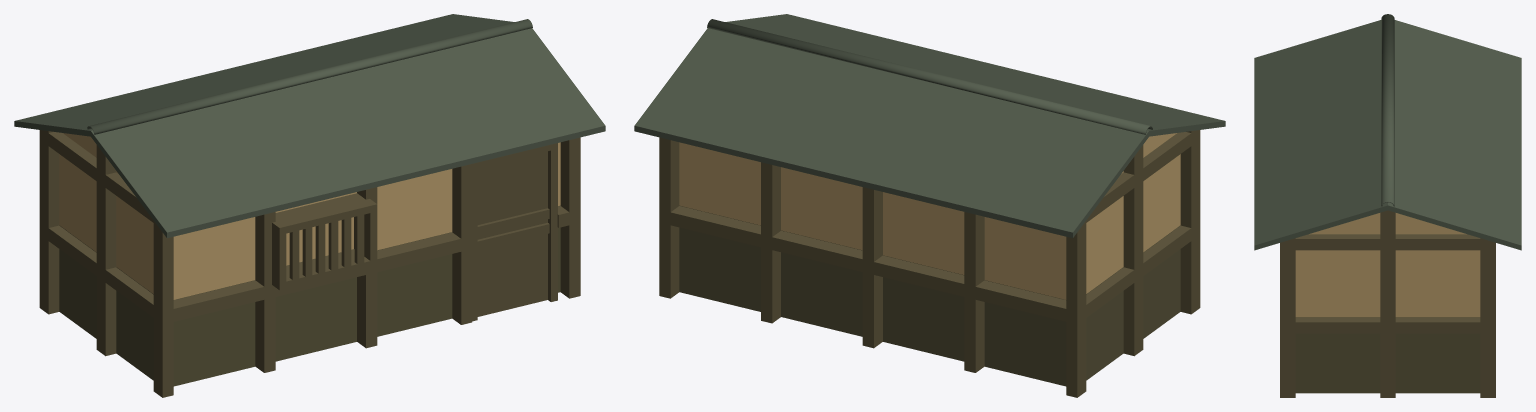
The model's file is Building2_v01.glb.
3 renders of one model, left to right at view 1: azimuth 30°, elevation 25°; view 2: azimuth 150°, elevation 25°; view 3: azimuth 270°, elevation 25°, orthographic. The views are drawn at different scales.
Parts seen in each view (by area): view 1: SM_Building2; view 2: SM_Building2; view 3: SM_Building2.
Part boxes in pixels (bbox=[...]): SM_Building2: bbox=[14, 14, 605, 397]; SM_Building2: bbox=[634, 14, 1225, 397]; SM_Building2: bbox=[1254, 14, 1521, 397].
Size of the model in its own units: 6.15 by 3.07 by 3.71.
